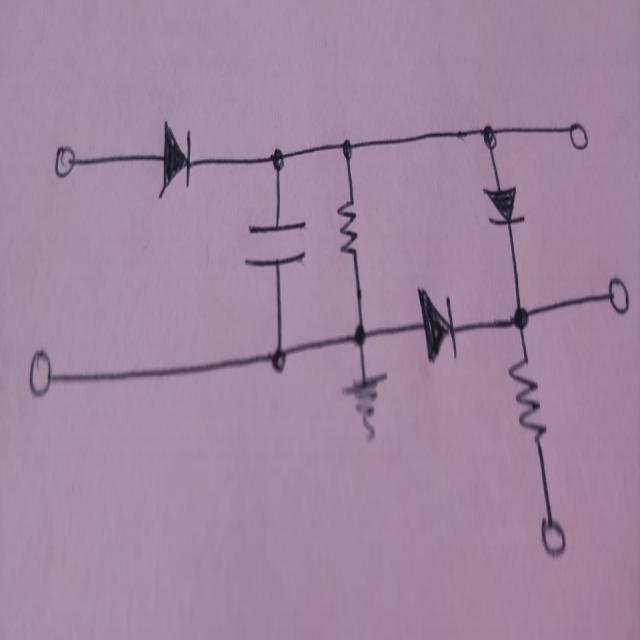capacitor: (246, 210, 305, 272)
diode: (418, 289, 458, 365), (159, 119, 192, 195), (483, 179, 524, 230)
ground: (342, 368, 388, 436)
junction: (509, 301, 532, 335), (268, 337, 288, 374), (481, 116, 498, 153), (269, 146, 287, 177), (353, 316, 369, 349), (339, 135, 356, 160)
resistor: (507, 347, 545, 448), (335, 194, 360, 264)
terminal: (540, 501, 566, 558), (52, 134, 78, 182), (28, 346, 54, 394), (606, 274, 628, 316), (566, 114, 588, 152)
